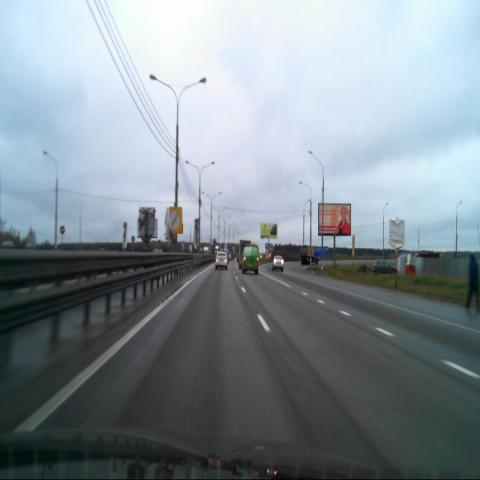3_31: (168, 206, 182, 233)
